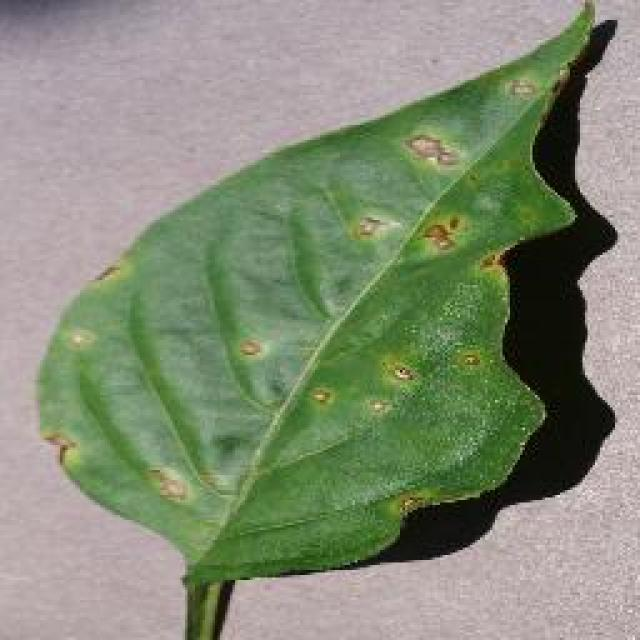Chilli_Bacterial_Spot: (29, 0, 602, 592), (228, 128, 508, 428), (228, 328, 490, 422), (342, 205, 400, 250), (400, 130, 462, 172), (142, 462, 192, 508), (415, 213, 465, 255), (347, 210, 385, 242), (62, 323, 100, 355), (472, 248, 510, 280), (502, 72, 540, 102), (233, 332, 265, 362), (363, 392, 395, 420), (305, 382, 335, 410), (388, 360, 418, 388), (455, 345, 485, 373)
